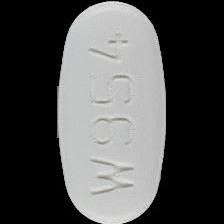64679-954: (0, 0, 224, 224)
